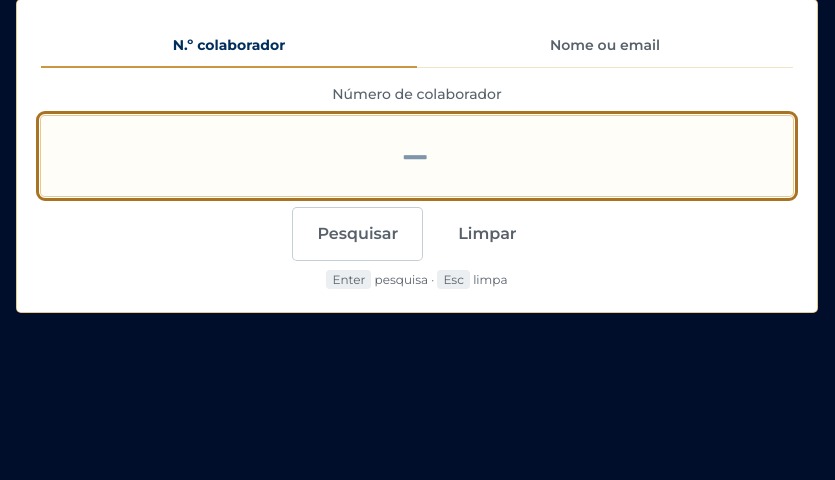
it: pesquisa por nome ou email › sugere assim que aparece o espaço
Click the tab "Nome ou email" at (605, 46), box x1=417 y1=24 x2=793 y2=68
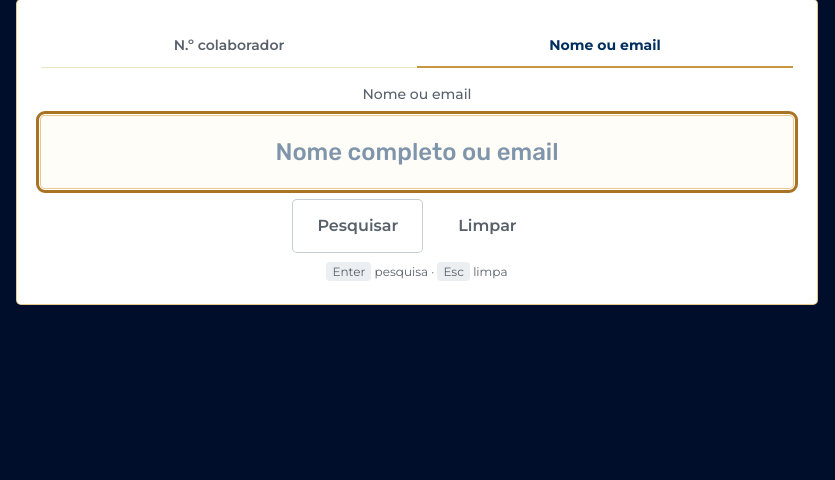
Type "João " into the field labelled "Nome ou email" at (417, 152), box x1=41 y1=116 x2=793 y2=188
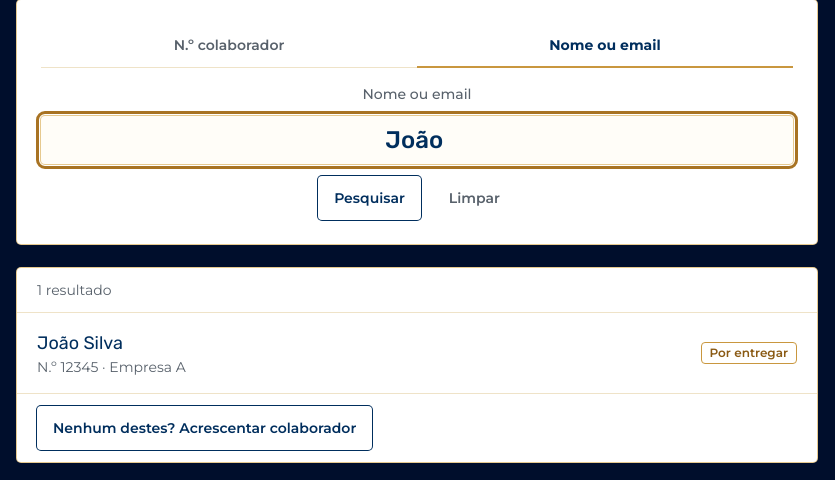
Result: the text "João Silva" is shown at x1=37 y1=332 x2=123 y2=354
